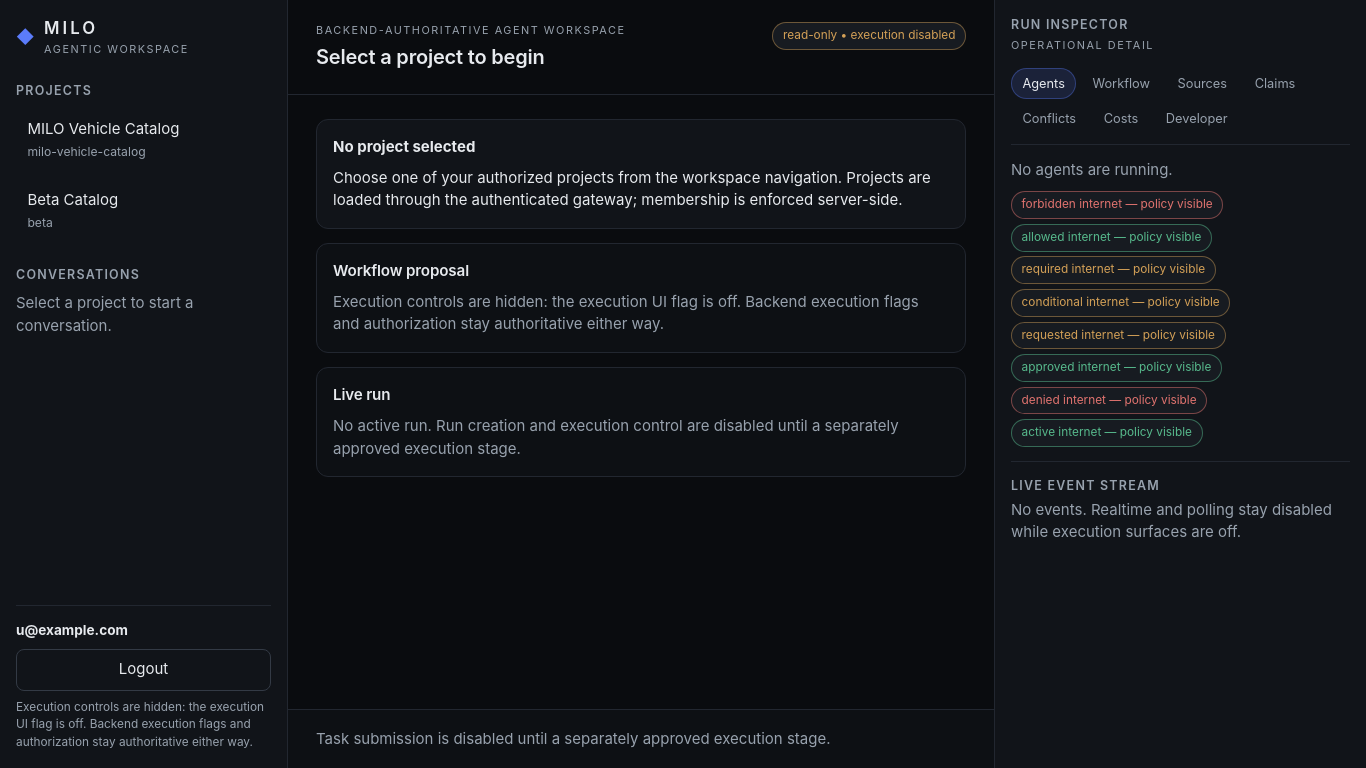
Scenario: canonical and review rows are never confusable › marks every review row as a candidate, in text rather than colour alone
Click the text "MILO Vehicle Catalog".
click(103, 128)  # box [27,119,179,138]
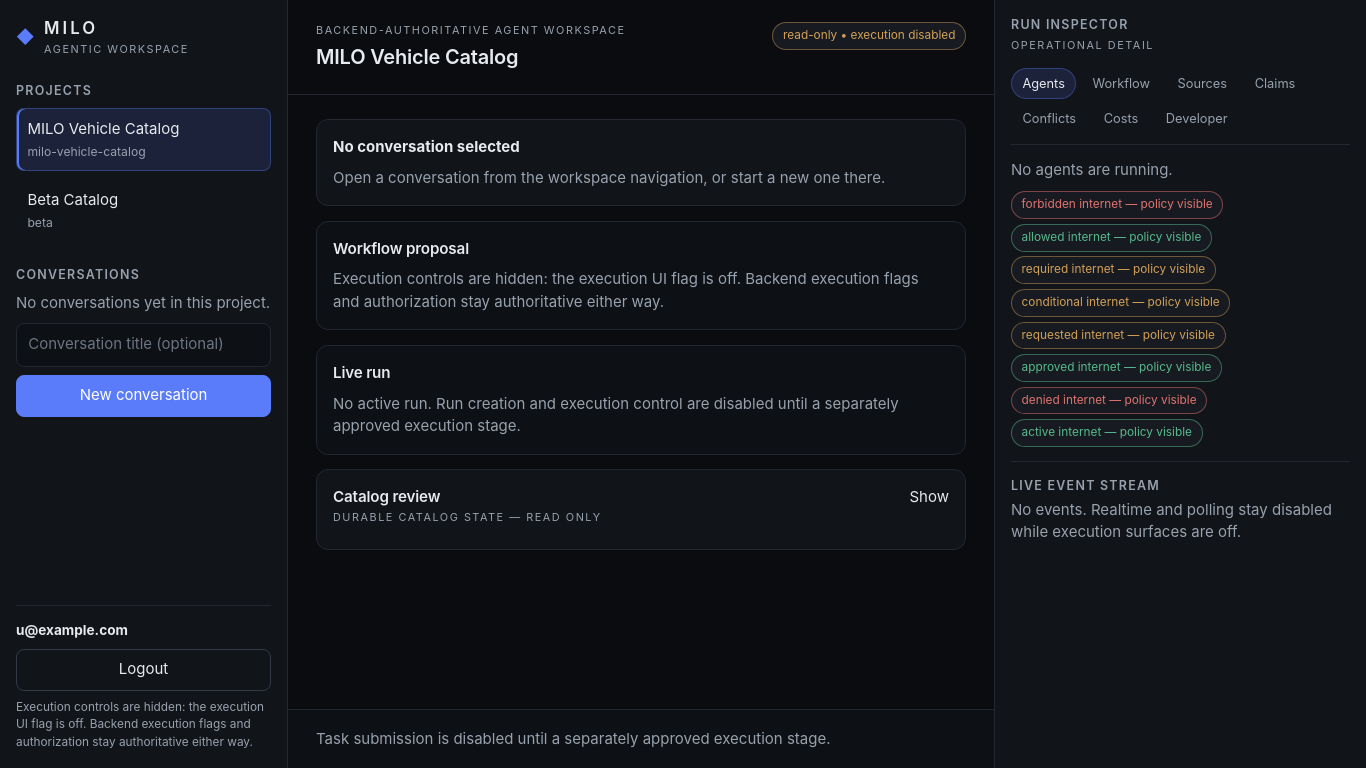
Click the button "Show".
click(929, 497)  # box [910,486,949,508]
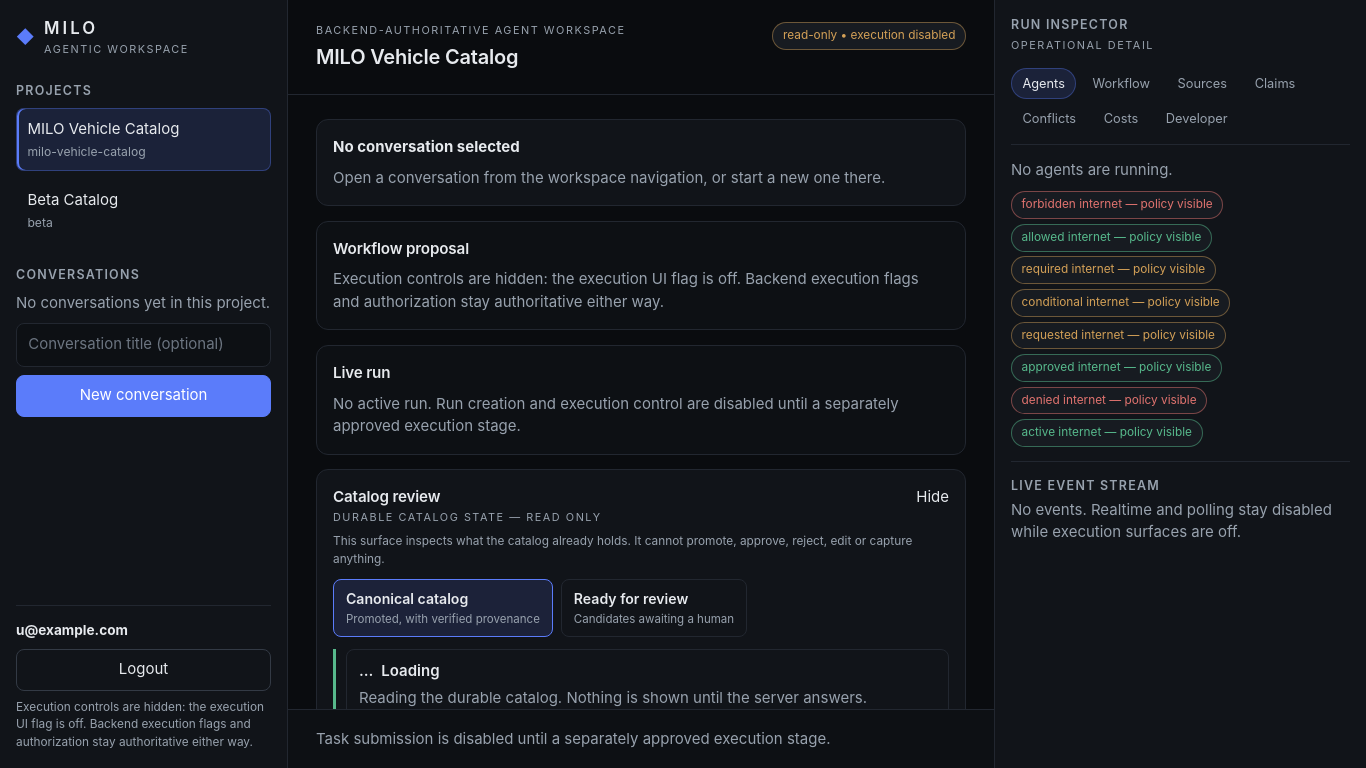
Click the tab "Ready for review Candidates awaiting a human".
click(654, 608)  # box [561,579,747,637]
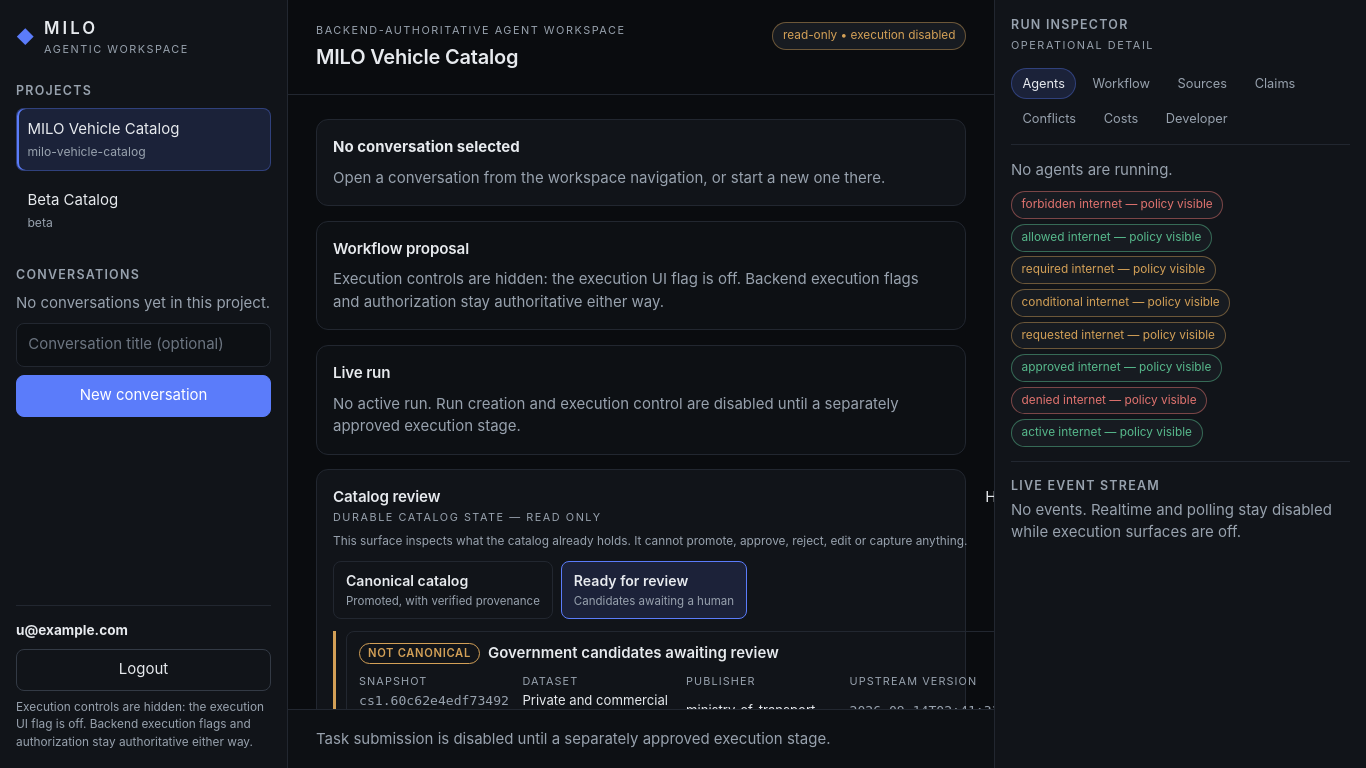
Expected: the text "Government candidates awaiting review" is shown, [488,643,779,662]
